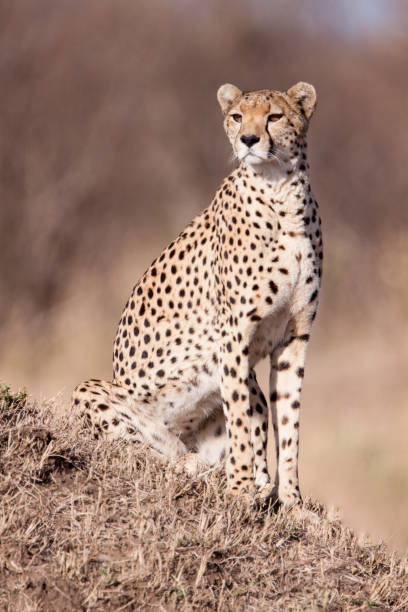cheetah: (208, 69, 325, 183)
